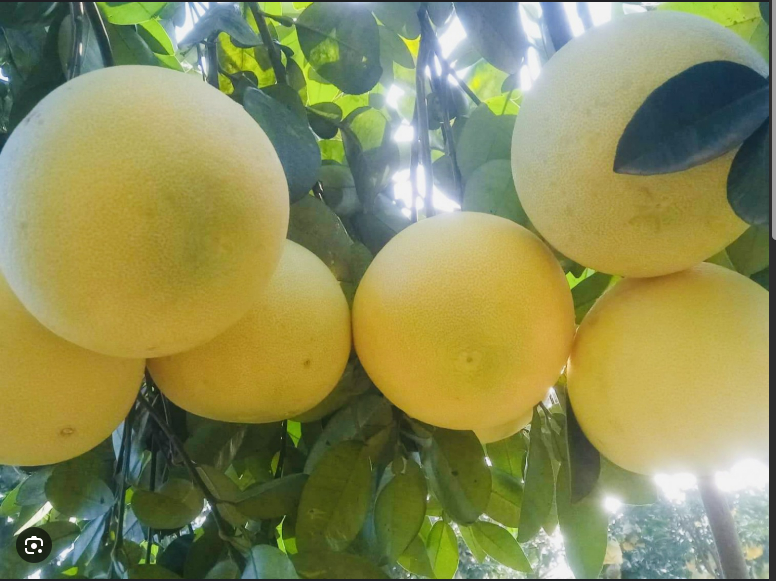buoi: (2, 56, 293, 355), (490, 5, 771, 279), (360, 186, 580, 454), (560, 249, 768, 477), (147, 246, 356, 425), (2, 278, 149, 477)
